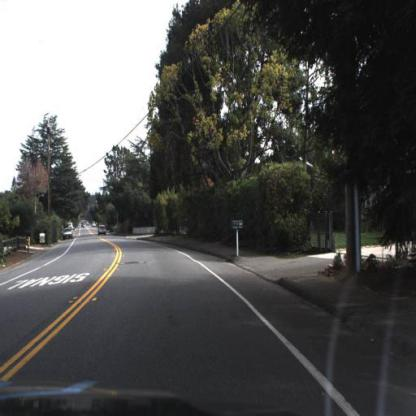car: (97, 222, 109, 240), (97, 225, 107, 240), (63, 229, 75, 241)
